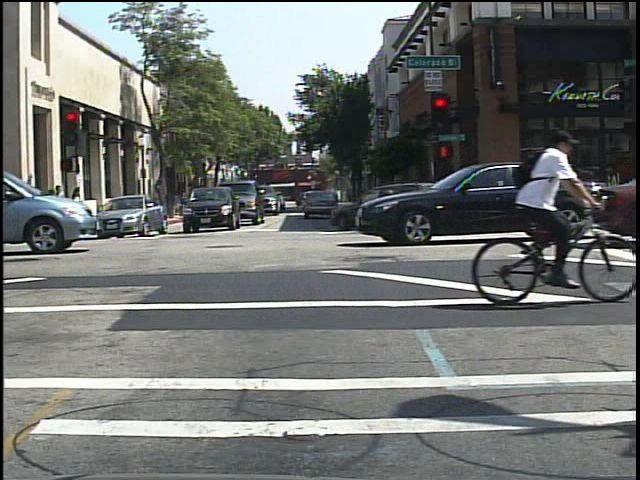person: (496, 121, 590, 300)
